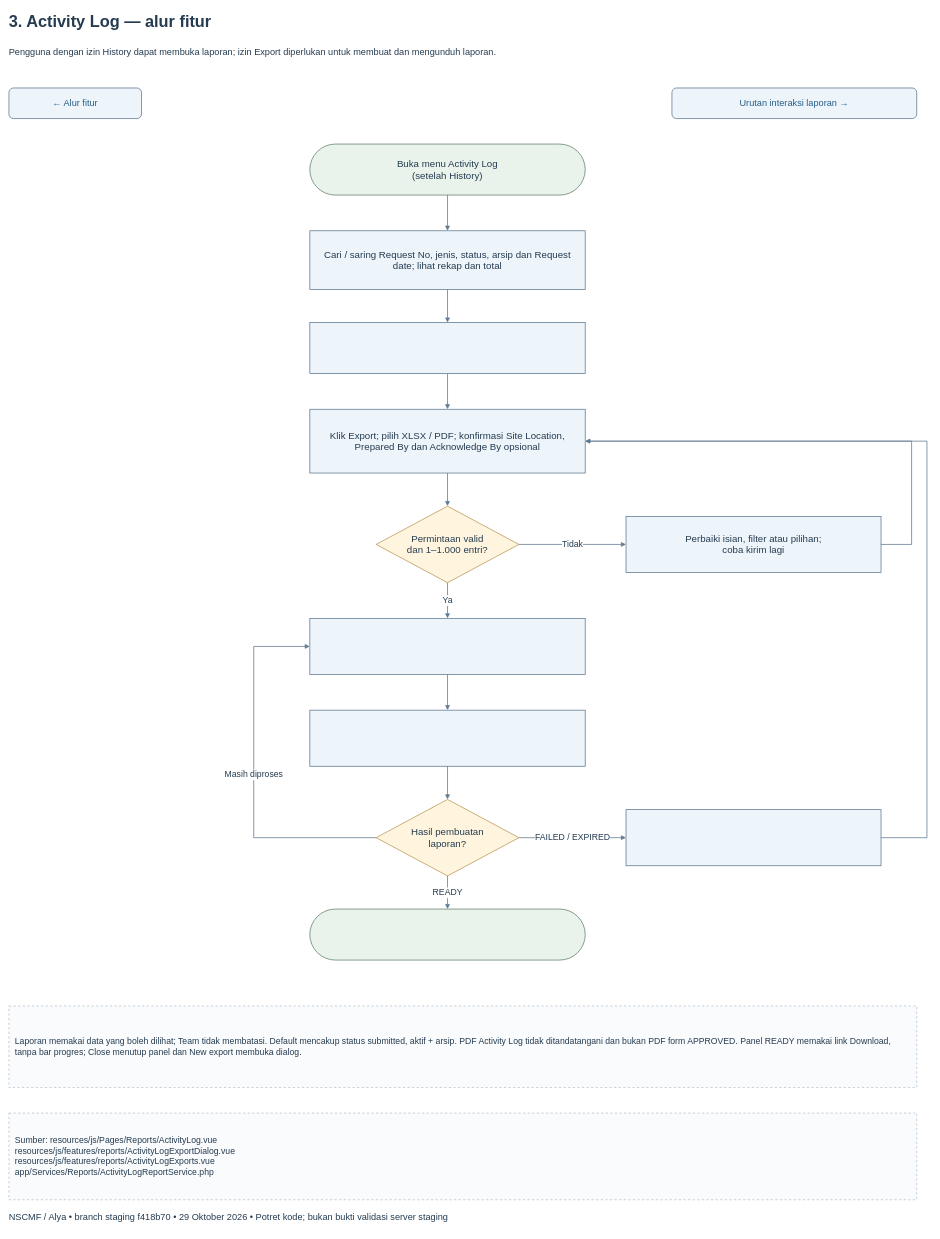
The diagram is 940 pixels wide and 1239 high, and some of its shapes have lost their labels. The shapes that lost their labels are listed below. From the top down, each one's centre as x and y in pixels, then its label:
At (447,348): "Opsional: pilih entri lintas halaman atau gunakan semua hasil filter".
At (447,646): "Laporan dibuat di belakang; strip terbaru menampilkan tahap dan persen".
At (447,738): "Buka Exports / View all exports; In progress, Ready to download, Earlier".
At (753,837): "Jika gagal / kedaluwarsa: New export untuk meminta ulang".
At (447,934): "Klik Download File privat tersedia selama 7 hari".
